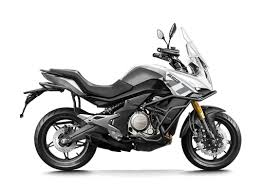motorcycle: (20, 23, 243, 171)
